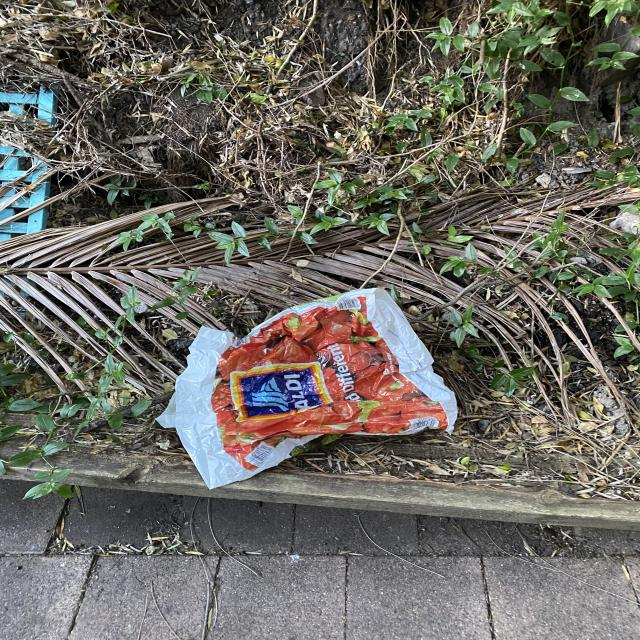bag: (156, 286, 456, 488)
